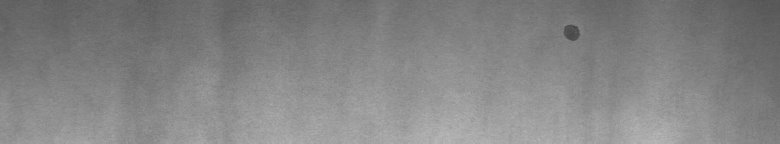fi: (559, 16, 584, 48)
